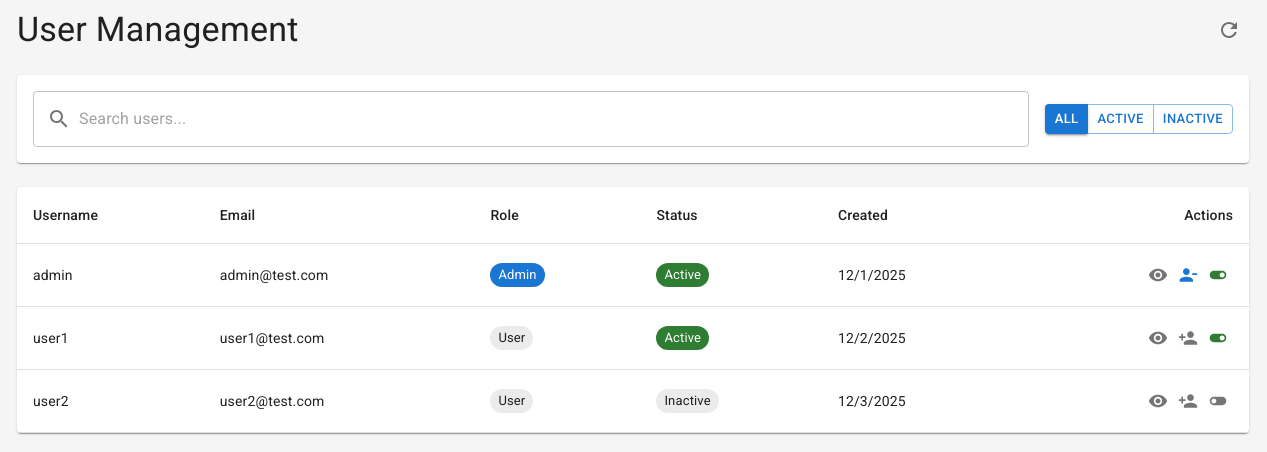
Test: UsersManagement Page - TDD (Rebuilt with Admin V1 API) › 3. Search & Filtering › should filter by inactive status
The width and height of the screenshot is (1267, 452).
expect the text "user1" is shown: met, box [17,306,204,370]
Note: Click "Inactive" filter button
Step 1. Click the button "Inactive" → (1193, 119), box [1153,104,1233,134]
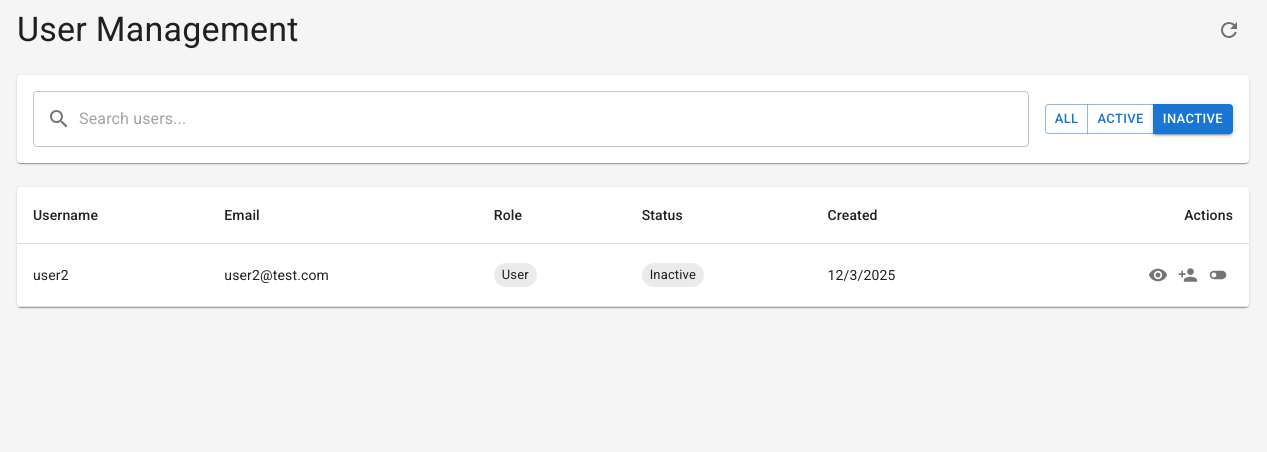
expect the text "user2" is shown: met, box [17,244,208,306]
expect the text "user1" is gone: met
